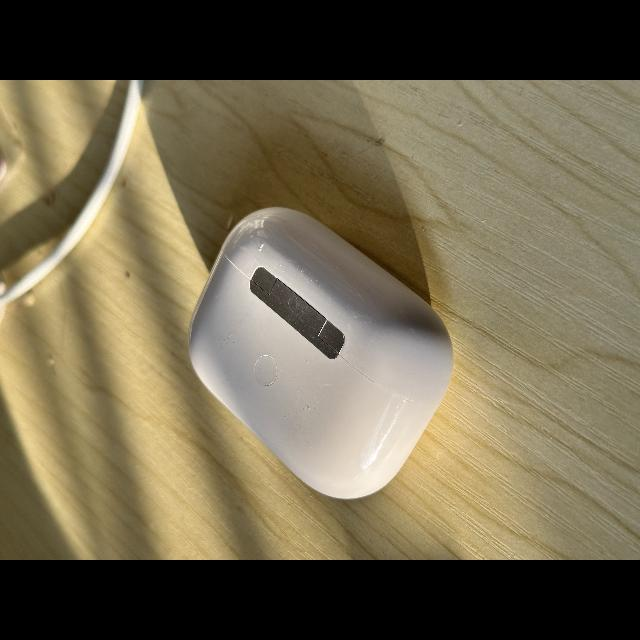AirPods Pro: (189, 207, 454, 499)
